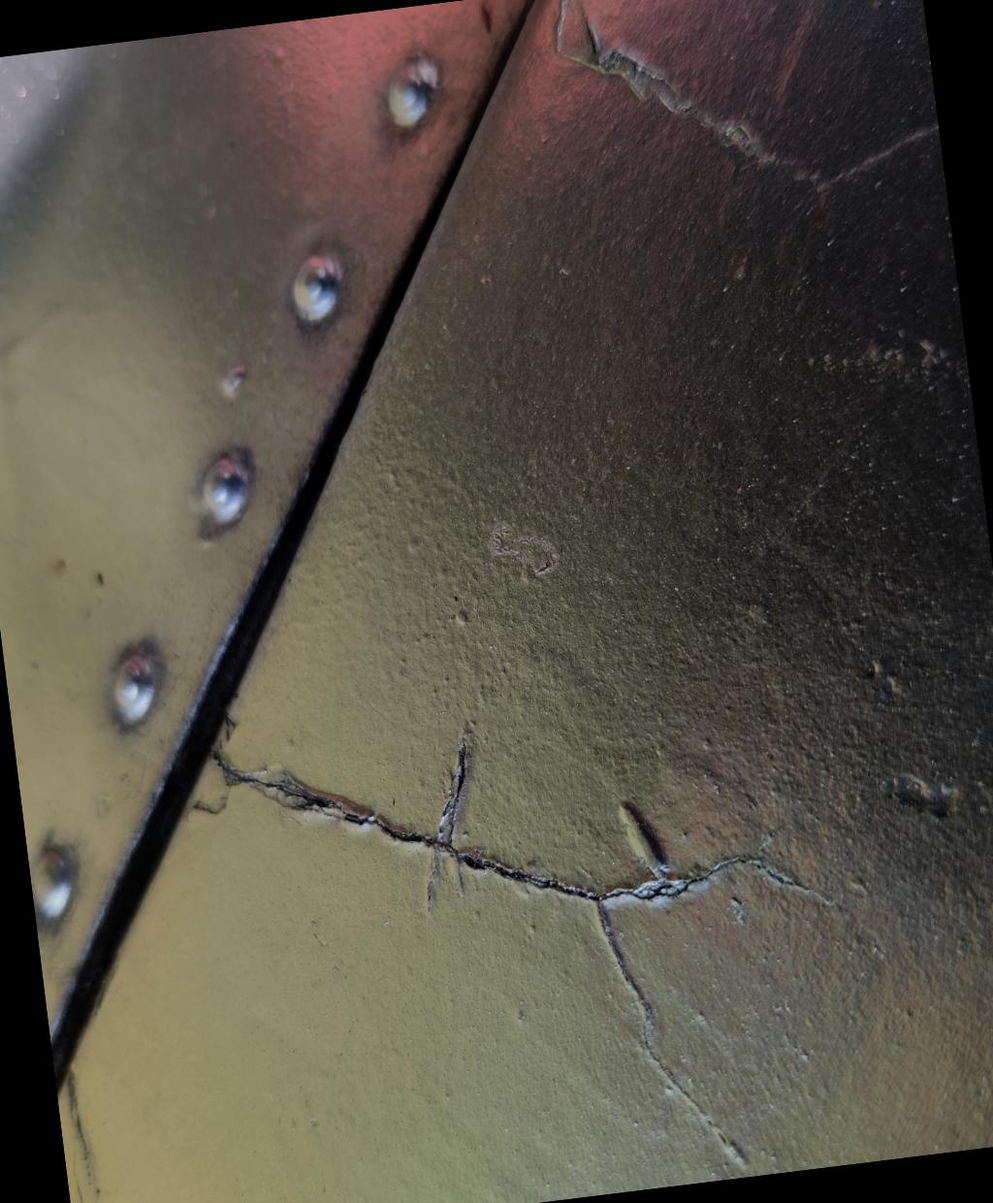crack: (174, 641, 855, 1124)
